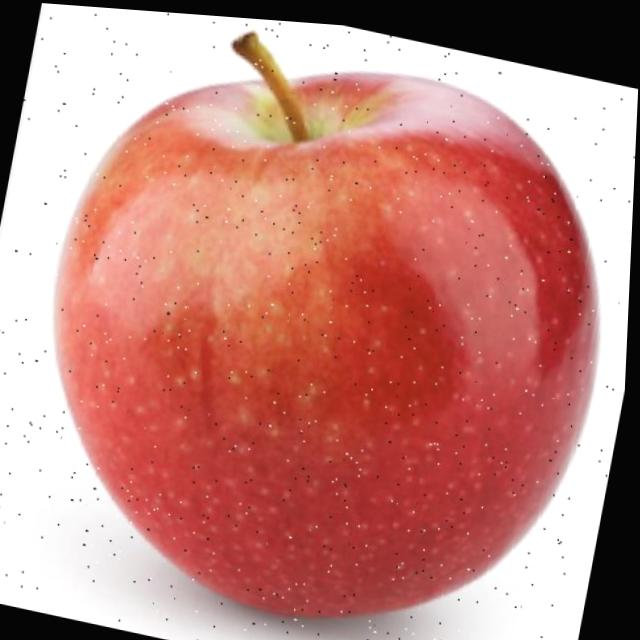Apple: (6, 2, 640, 640)
